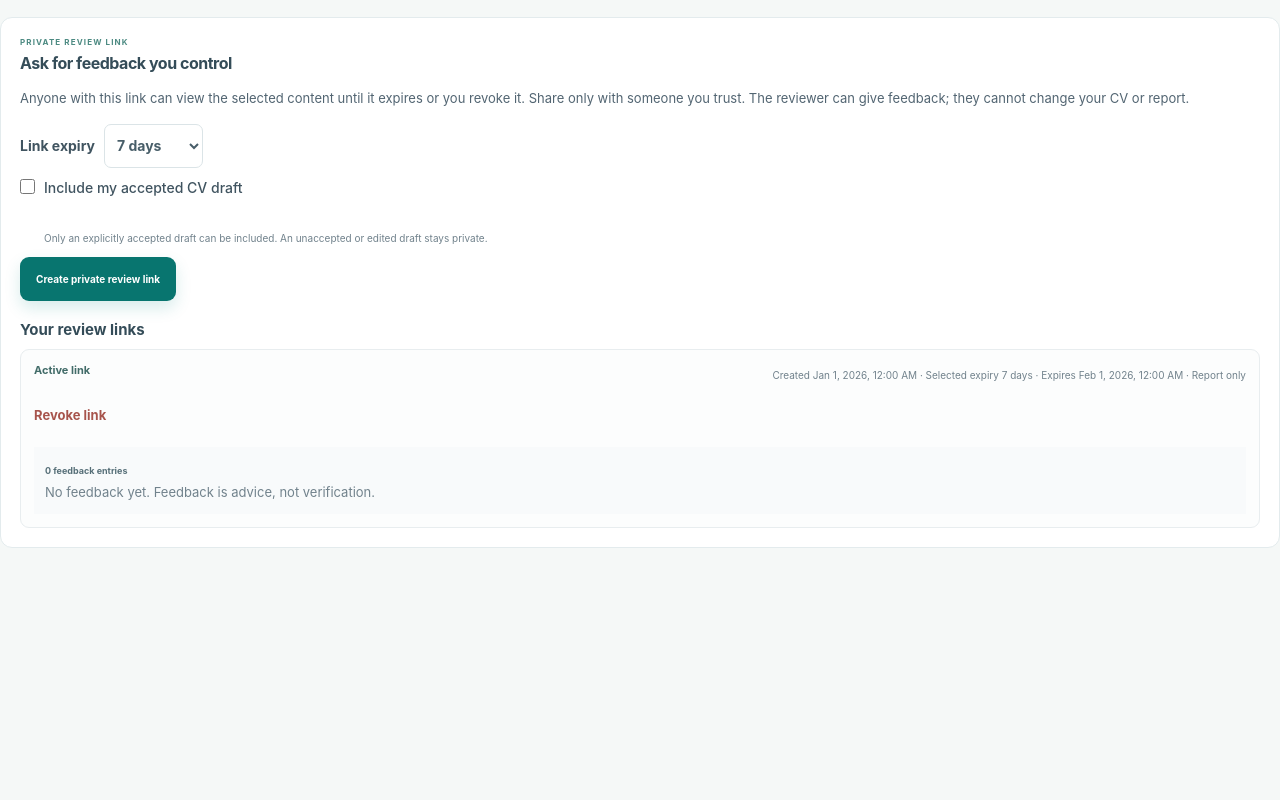
does not announce revocation without an operation-specific acknowledgement
Click the button "Revoke link" at [70, 415], box 34,393 -> 106,437
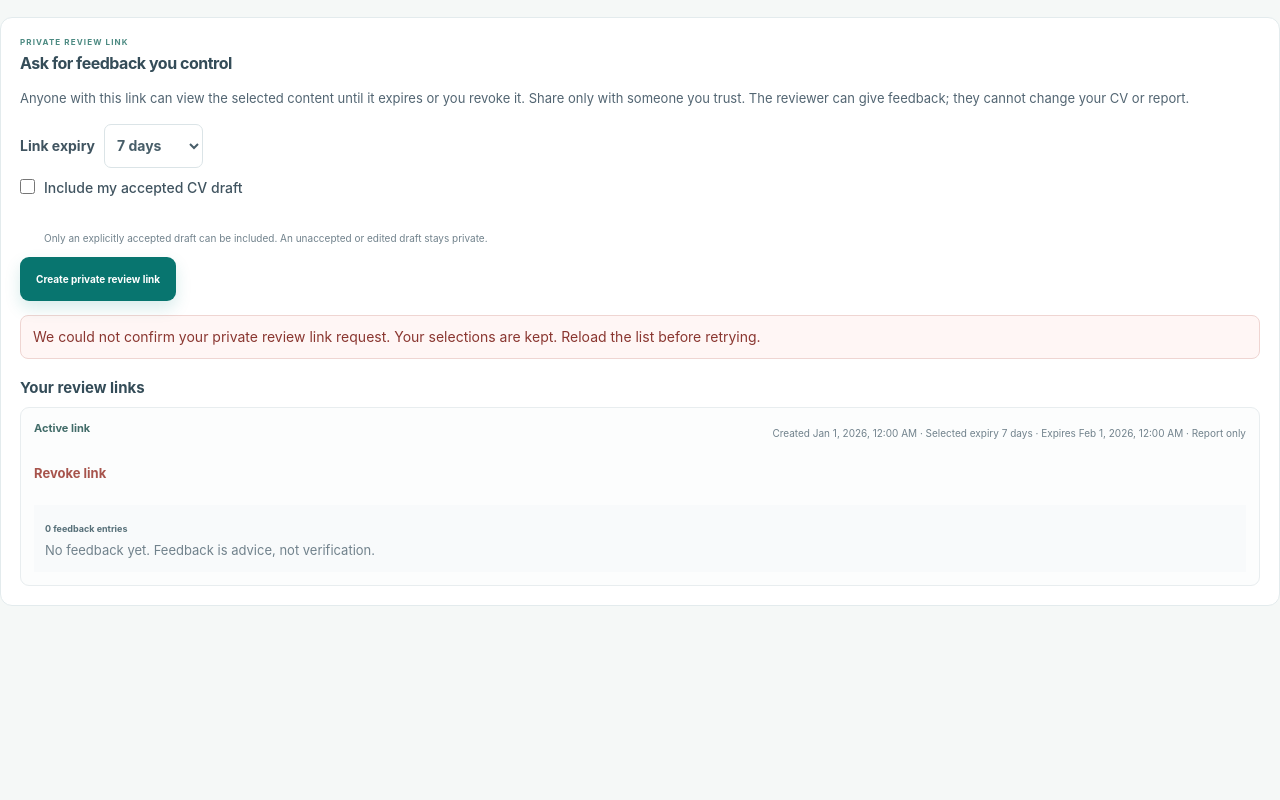
expect the text "Active link" is shown: met, box 34,421 -> 90,435
expect the message is shown: met, box 20,315 -> 1260,359
